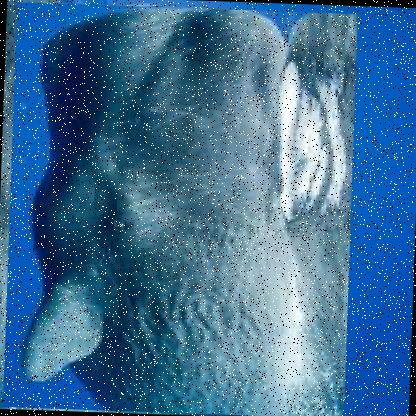sperm_whale: (3, 0, 360, 415)
